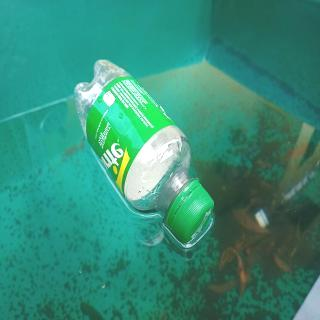bottle: (72, 58, 214, 245)
